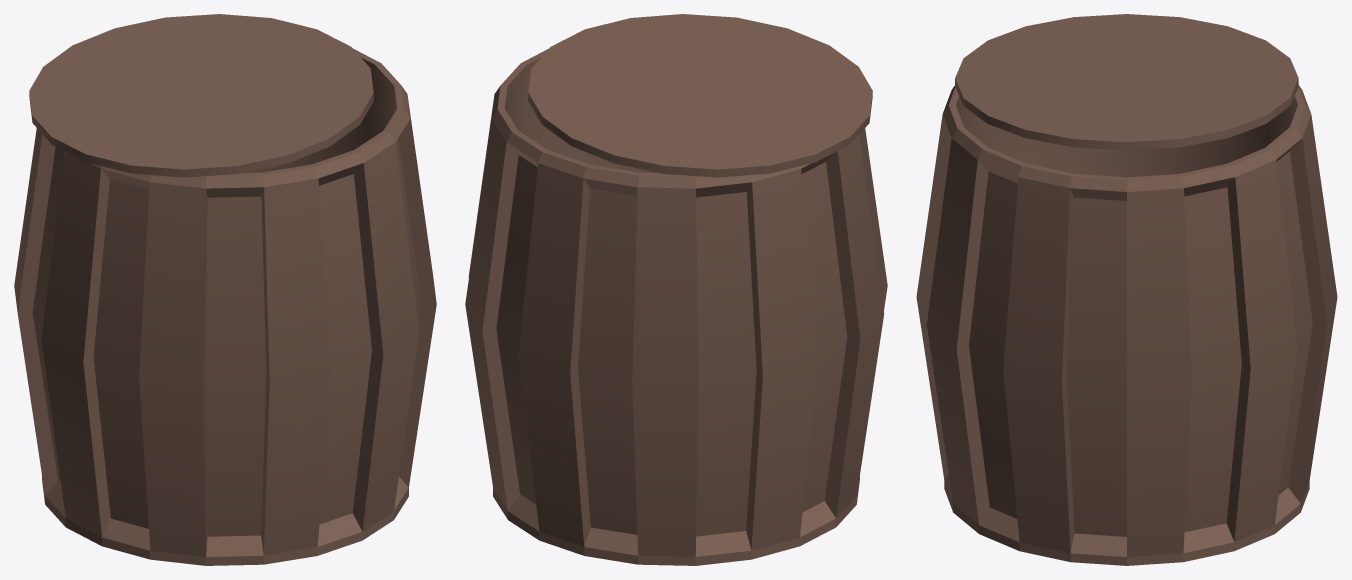
The model's file is Crate_Model_V02.fbx.
3 views of the same model, side by side, from view 1: azimuth 30°, elevation 25°; view 2: azimuth 150°, elevation 25°; view 3: azimuth 270°, elevation 25° (orthographic).
Parts seen in each view (by area): view 1: pCylinder7; view 2: pCylinder7; view 3: pCylinder7.
Part boxes in pixels (box(x1,y1,x2,y2)): pCylinder7: box(14, 14, 436, 565); pCylinder7: box(465, 14, 887, 565); pCylinder7: box(916, 14, 1337, 565).
Size of the model in its own units: 94.59 by 101 by 94.59.
1 material, 1 textured.
